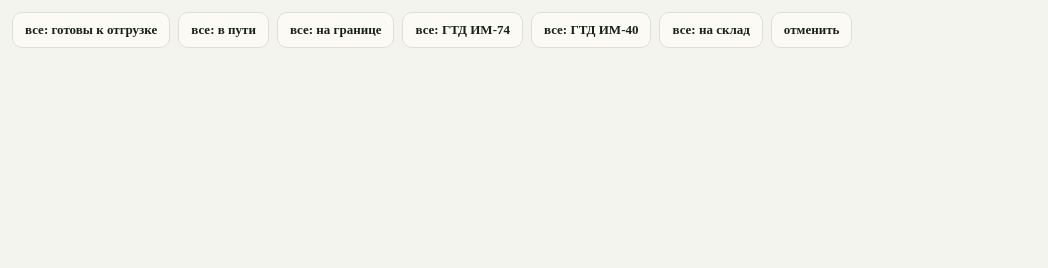
Test: формы импортных контрактов › передаёт реквизиты ГТД массового перехода и показывает ошибку
Click the button "все: ГТД ИМ-74" at (463, 30), box [402,12,523,48]
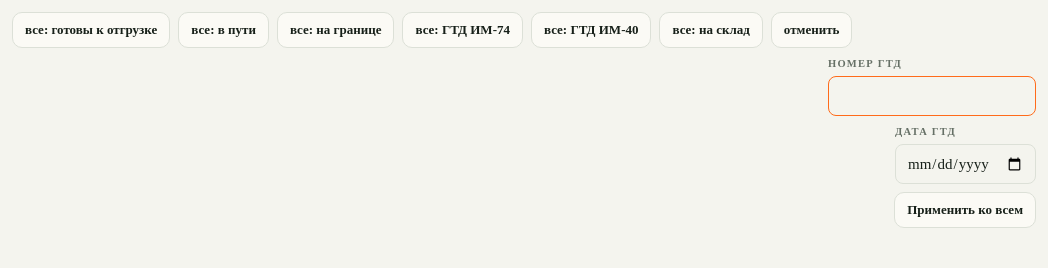
Type "IM74-9988" into the field labelled "Номер ГТД" at (932, 96), box [828,76,1036,116]
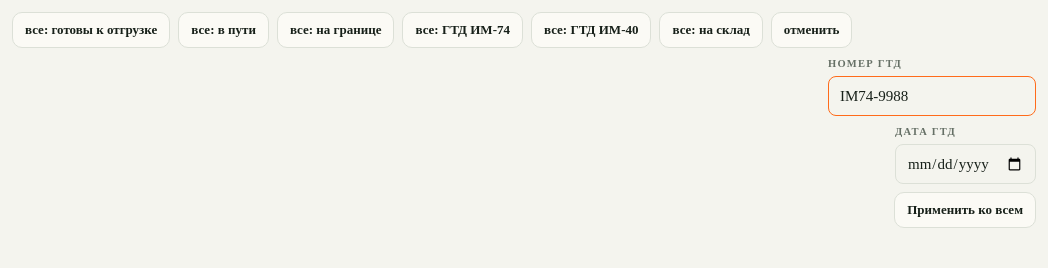
Type "2026-08-24" into the date field labelled "Дата ГТД" at (966, 164), box [895,144,1036,184]
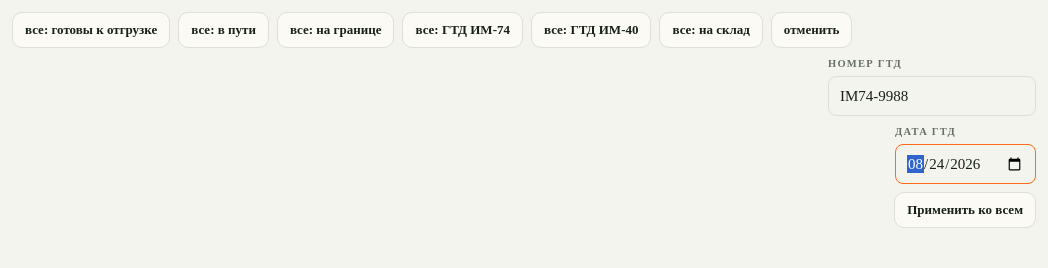
Click the button "Применить ко всем" at (965, 210), box [894,192,1036,228]
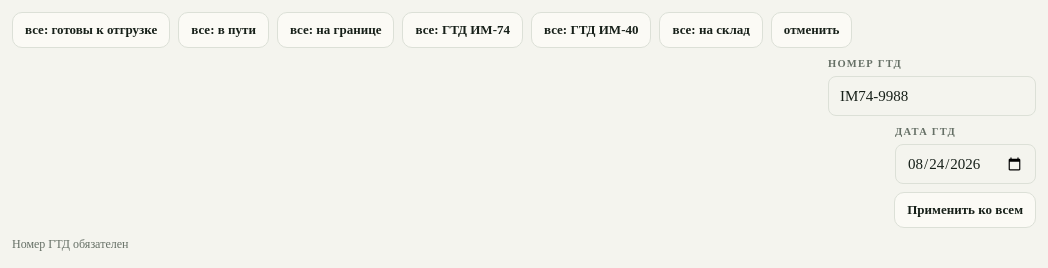
Check: the text "Номер ГТД обязателен" is shown, box [12,237,128,251]
